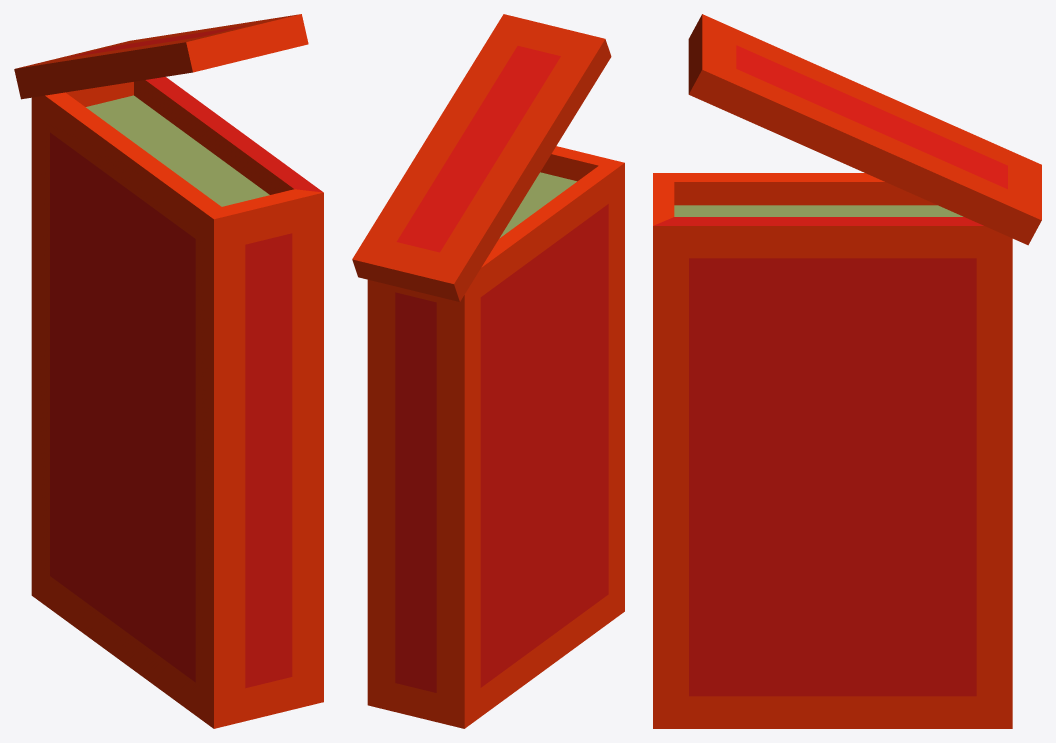
File: Birdfeedbox.fbx
The picture shows the model from 3 angles, left to right: view 1: azimuth 30°, elevation 25°; view 2: azimuth 150°, elevation 25°; view 3: azimuth 270°, elevation 25°; orthographic projection. The views are drawn at different scales.
Visible parts, largest first — view 1: Cube, Cube.001, Cube.002; view 2: Cube, Cube.001, Cube.002; view 3: Cube, Cube.001, Cube.002.
Part boxes in pixels (x1,y1,x2,y2): Cube: (31, 77, 323, 728); Cube.001: (14, 14, 308, 99); Cube.002: (86, 95, 269, 206); Cube: (367, 146, 624, 728); Cube.001: (352, 14, 611, 301); Cube.002: (499, 172, 576, 238); Cube: (653, 173, 1012, 728); Cube.001: (688, 14, 1041, 245); Cube.002: (674, 205, 963, 216).
Size of the model in its own units: 73.33 by 406 by 216.
